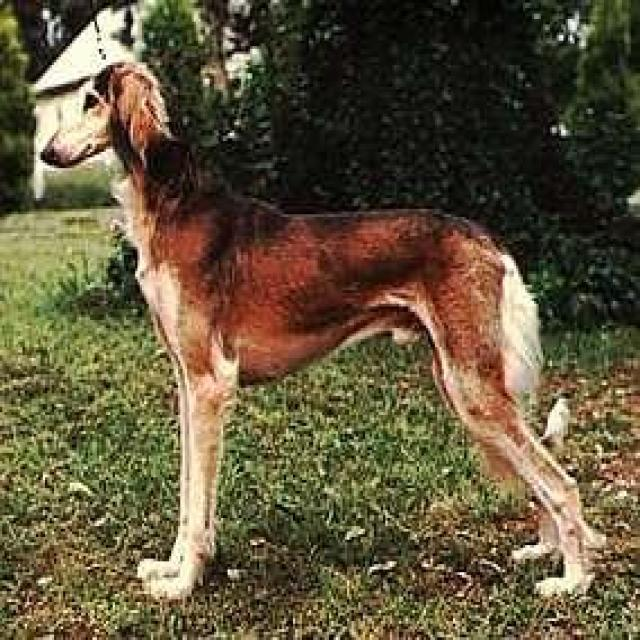saluki: (39, 51, 608, 596)
